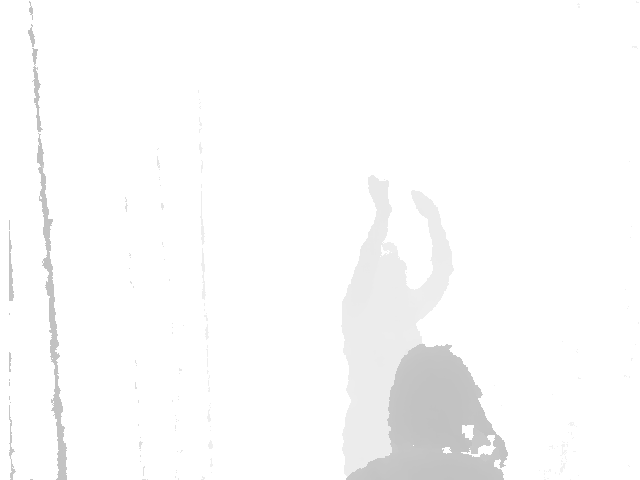hand: (367, 173, 394, 220), (411, 186, 441, 226)
head: (383, 347, 485, 452), (371, 245, 412, 289)
person: (334, 162, 457, 469), (345, 340, 508, 480)
